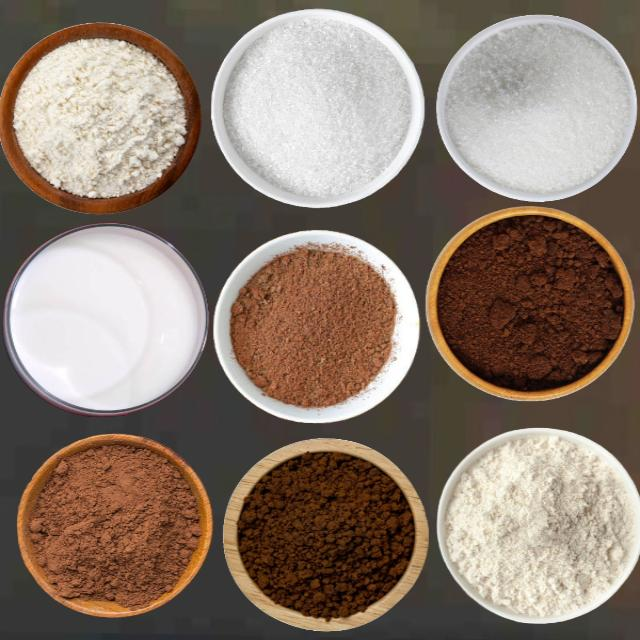Cocoa: (25, 426, 215, 622), (229, 242, 396, 408)
Coffee: (435, 212, 625, 392), (236, 449, 415, 620)
Flour: (444, 433, 636, 618), (12, 36, 187, 199)
Sugar: (222, 15, 411, 198), (443, 20, 630, 193)
